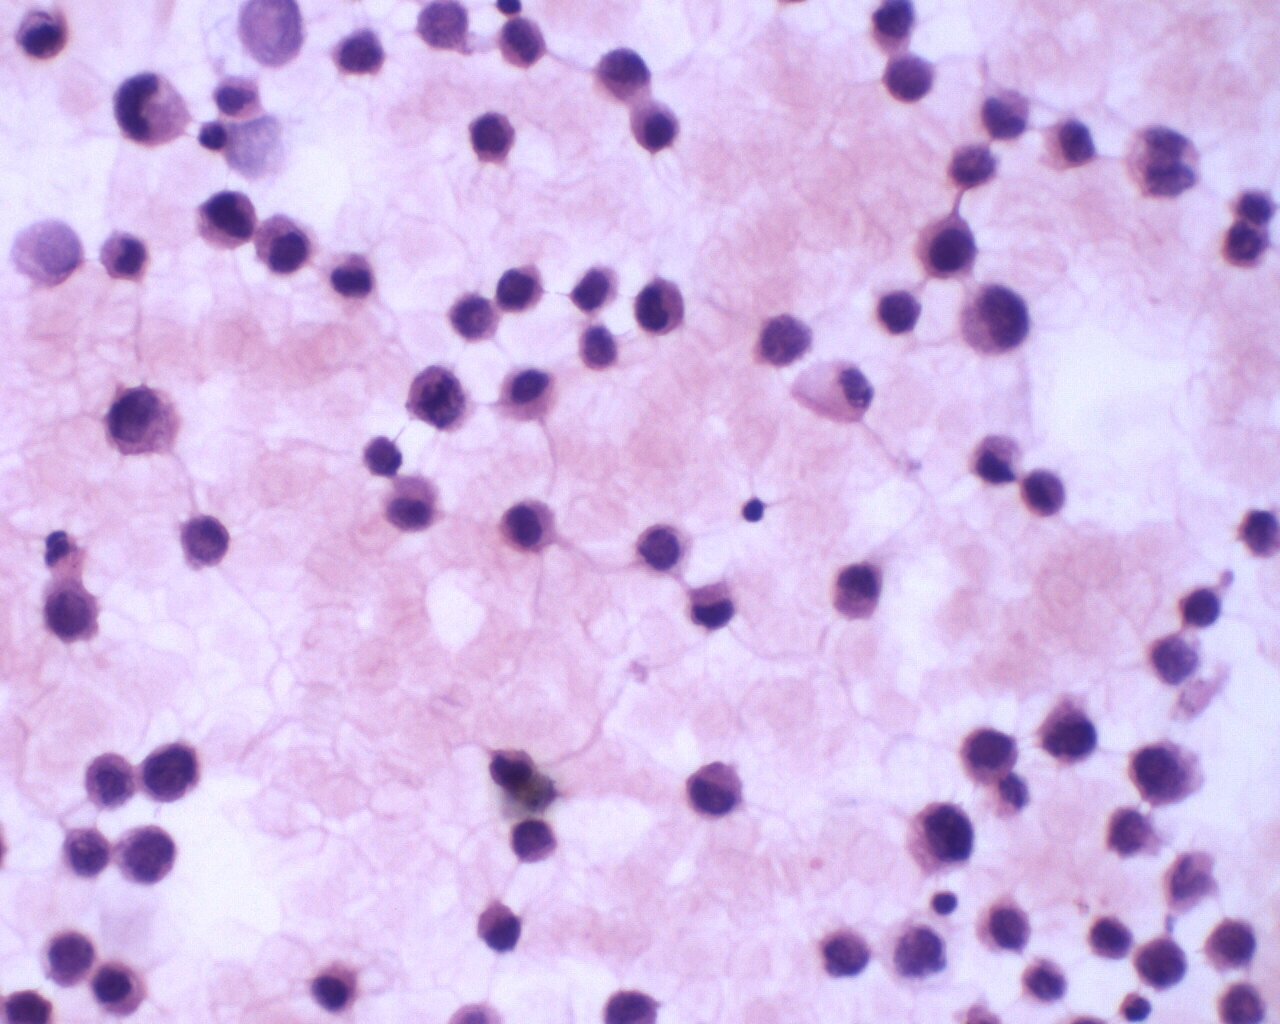ab: (97, 380, 183, 461), (107, 69, 189, 152), (956, 282, 1035, 363), (1128, 734, 1206, 812), (904, 796, 977, 879), (135, 739, 210, 811), (189, 183, 256, 258), (1034, 698, 1101, 769), (41, 573, 104, 647), (113, 822, 180, 892), (405, 362, 468, 432), (957, 722, 1021, 788), (971, 895, 1035, 959), (631, 274, 694, 340), (37, 927, 100, 990), (495, 494, 557, 555), (1133, 933, 1190, 996), (174, 511, 232, 573), (329, 19, 385, 82), (56, 823, 117, 880), (1202, 917, 1264, 972), (463, 109, 523, 163), (567, 261, 623, 317), (495, 259, 548, 317), (507, 815, 563, 867), (1086, 909, 1134, 961)
lymph: (734, 492, 776, 529)
meso: (911, 209, 979, 282), (252, 209, 316, 277), (621, 95, 684, 156)
